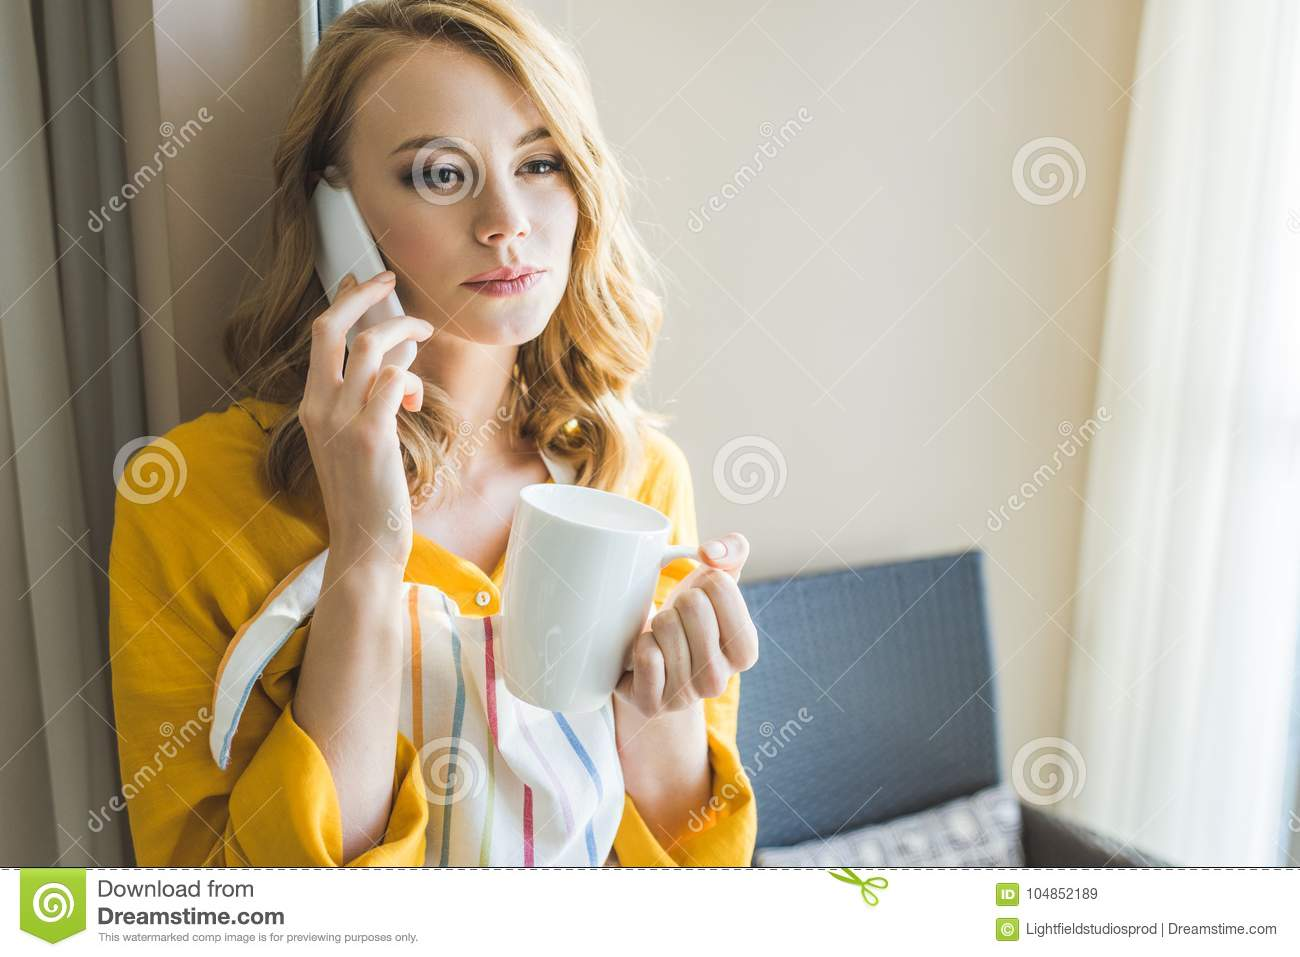phone: (304, 158, 421, 389)
talk: (301, 120, 582, 570)
